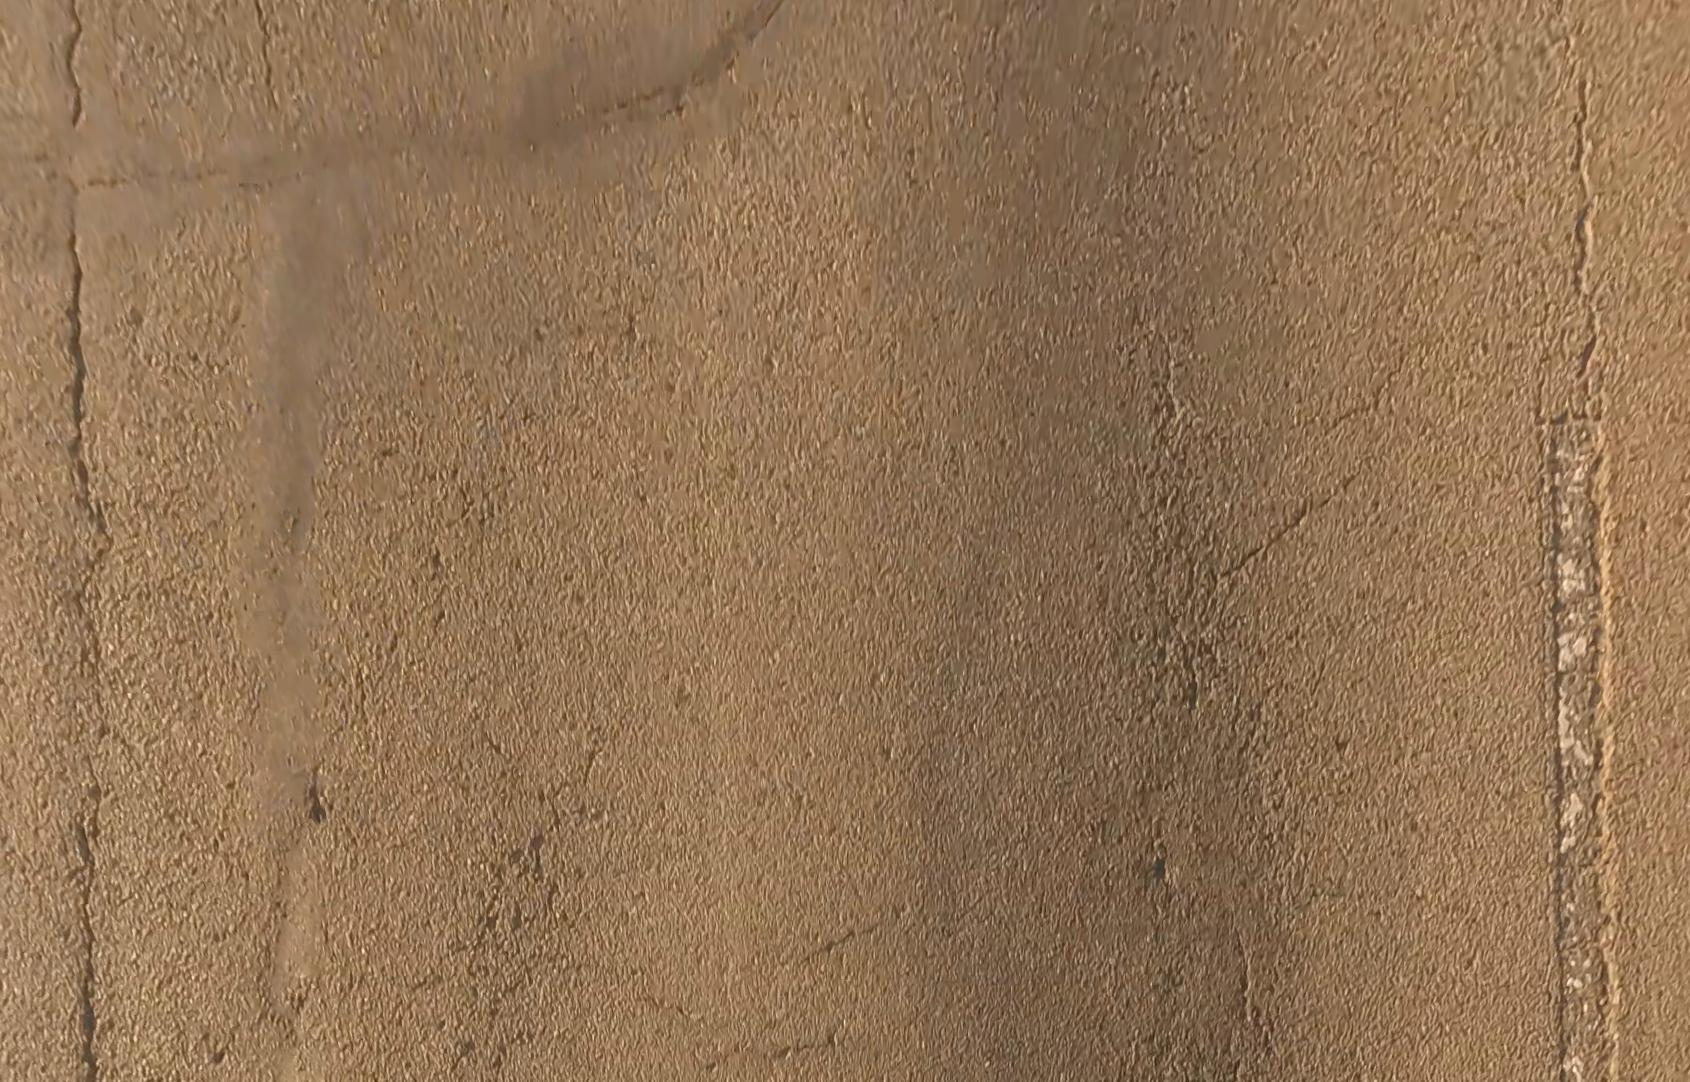pothole_patch_good: (248, 182, 362, 818)
